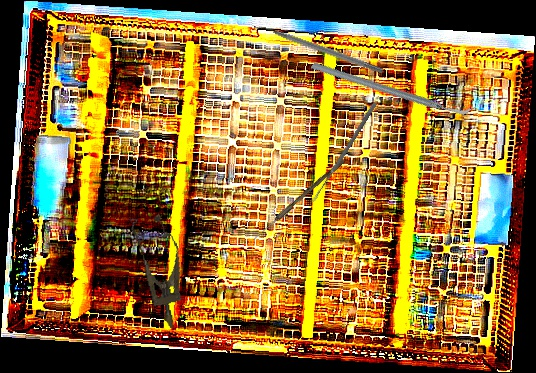Chopper: (309, 7, 477, 169)
Hook Surgical: (257, 21, 385, 75)
Speculum: (128, 210, 193, 333)
Surgical Spoon: (251, 157, 346, 243), (310, 101, 378, 204)
